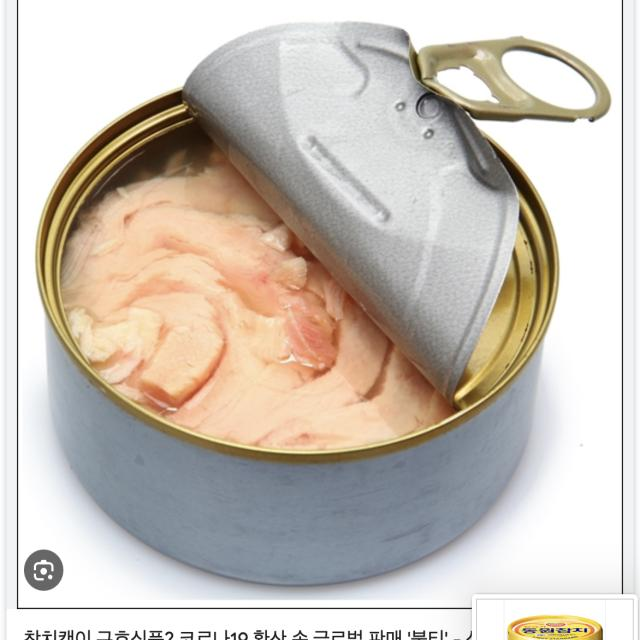recyclable: (41, 17, 584, 546)
